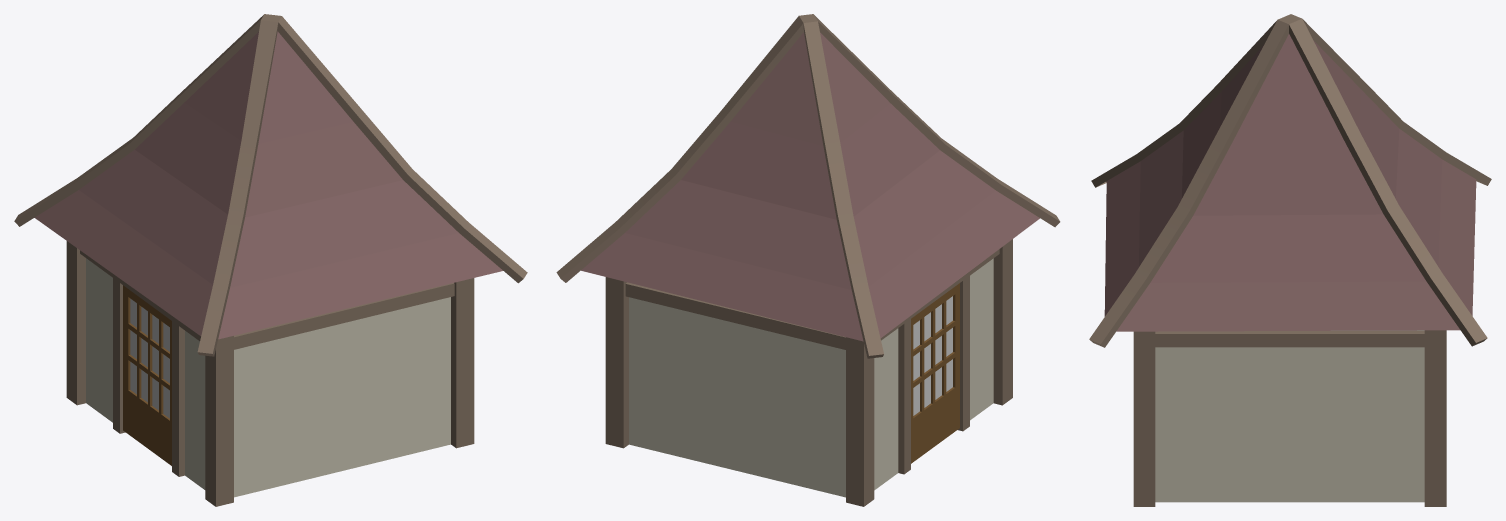
File: 4 x 4 hut.fbx
3 renders of one model, left to right at view 1: azimuth 30°, elevation 25°; view 2: azimuth 150°, elevation 25°; view 3: azimuth 270°, elevation 25°, orthographic. The views are drawn at different scales.
Visible parts, largest first — view 1: polySurface29; view 2: polySurface29; view 3: polySurface29.
Boxes of the visible parts, x1,y1,x2,y2 form: polySurface29: (14,14,527,506); polySurface29: (556,14,1060,506); polySurface29: (1089,14,1491,506).
Size of the model in its own units: 1107 by 1280 by 1107.
